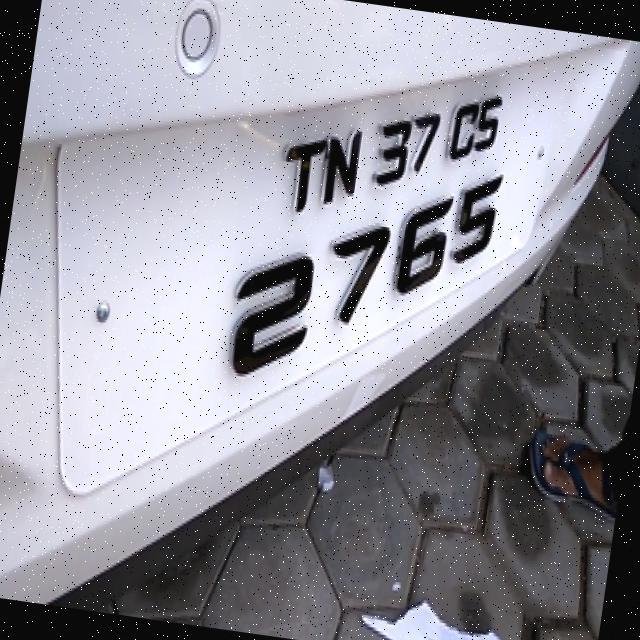Autre: (62, 64, 570, 500)
